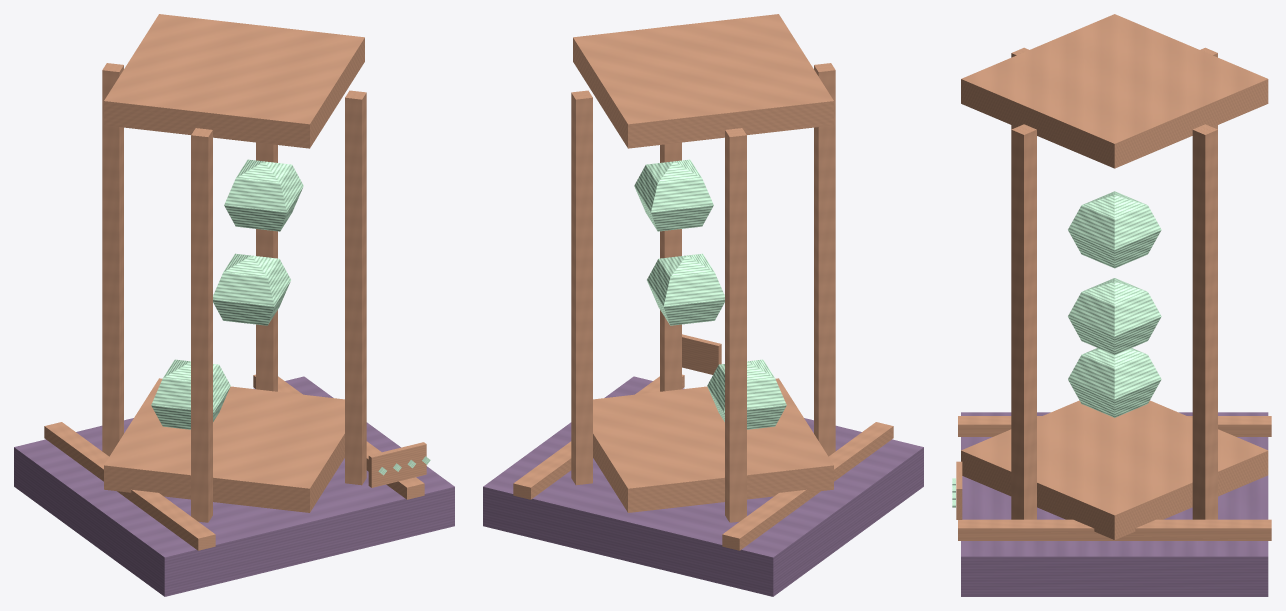
Rendered from atlas100-s090-a04.glb.
The picture shows the model from 3 angles, left to right: view 1: azimuth 30°, elevation 25°; view 2: azimuth 150°, elevation 25°; view 3: azimuth 270°, elevation 25°; orthographic projection.
Visible parts, largest first — view 1: atlas100-s090-a04:part-000, atlas100-s090-a04:part-004, atlas100-s090-a04:part-003, atlas100-s090-a04:part-005, atlas100-s090-a04:part-007, atlas100-s090-a04:part-009, atlas100-s090-a04:part-015, atlas100-s090-a04:part-014, atlas100-s090-a04:part-001, atlas100-s090-a04:part-013, atlas100-s090-a04:part-011, atlas100-s090-a04:part-016 (+1 smaller); view 2: atlas100-s090-a04:part-000, atlas100-s090-a04:part-004, atlas100-s090-a04:part-003, atlas100-s090-a04:part-011, atlas100-s090-a04:part-009, atlas100-s090-a04:part-007, atlas100-s090-a04:part-015, atlas100-s090-a04:part-014, atlas100-s090-a04:part-001, atlas100-s090-a04:part-013, atlas100-s090-a04:part-005, atlas100-s090-a04:part-002 (+1 smaller); view 3: atlas100-s090-a04:part-004, atlas100-s090-a04:part-003, atlas100-s090-a04:part-000, atlas100-s090-a04:part-005, atlas100-s090-a04:part-011, atlas100-s090-a04:part-002, atlas100-s090-a04:part-015, atlas100-s090-a04:part-014, atlas100-s090-a04:part-013, atlas100-s090-a04:part-001.
Part boxes in pixels (x1,y1,x2,y2): atlas100-s090-a04:part-000: [14, 376, 454, 596]; atlas100-s090-a04:part-004: [104, 14, 364, 148]; atlas100-s090-a04:part-003: [104, 378, 344, 512]; atlas100-s090-a04:part-005: [345, 90, 366, 485]; atlas100-s090-a04:part-007: [191, 128, 212, 522]; atlas100-s090-a04:part-009: [102, 63, 123, 456]; atlas100-s090-a04:part-015: [224, 159, 303, 231]; atlas100-s090-a04:part-014: [213, 253, 290, 325]; atlas100-s090-a04:part-001: [44, 422, 215, 550]; atlas100-s090-a04:part-013: [151, 359, 230, 429]; atlas100-s090-a04:part-011: [256, 26, 277, 391]; atlas100-s090-a04:part-016: [368, 442, 426, 487]; atlas100-s090-a04:part-000: [483, 376, 923, 596]; atlas100-s090-a04:part-004: [573, 14, 833, 148]; atlas100-s090-a04:part-003: [593, 378, 833, 512]; atlas100-s090-a04:part-011: [571, 90, 592, 485]; atlas100-s090-a04:part-009: [725, 128, 746, 522]; atlas100-s090-a04:part-007: [814, 63, 835, 456]; atlas100-s090-a04:part-015: [634, 159, 713, 231]; atlas100-s090-a04:part-014: [647, 253, 724, 325]; atlas100-s090-a04:part-001: [722, 422, 893, 550]; atlas100-s090-a04:part-013: [707, 359, 786, 429]; atlas100-s090-a04:part-005: [660, 26, 681, 391]; atlas100-s090-a04:part-002: [513, 374, 684, 499]; atlas100-s090-a04:part-004: [961, 14, 1268, 168]; atlas100-s090-a04:part-003: [961, 400, 1268, 539]; atlas100-s090-a04:part-000: [961, 412, 1268, 596]; atlas100-s090-a04:part-005: [1011, 124, 1036, 519]; atlas100-s090-a04:part-011: [1192, 124, 1217, 519]; atlas100-s090-a04:part-002: [958, 519, 1271, 540]; atlas100-s090-a04:part-015: [1068, 191, 1161, 268]; atlas100-s090-a04:part-014: [1068, 278, 1161, 354]; atlas100-s090-a04:part-013: [1068, 348, 1161, 417]; atlas100-s090-a04:part-001: [958, 416, 1271, 436].
Bounding box in the file's own units: 2 × 2.88 × 1.87.
Materials: 3 (3 with a texture image).
